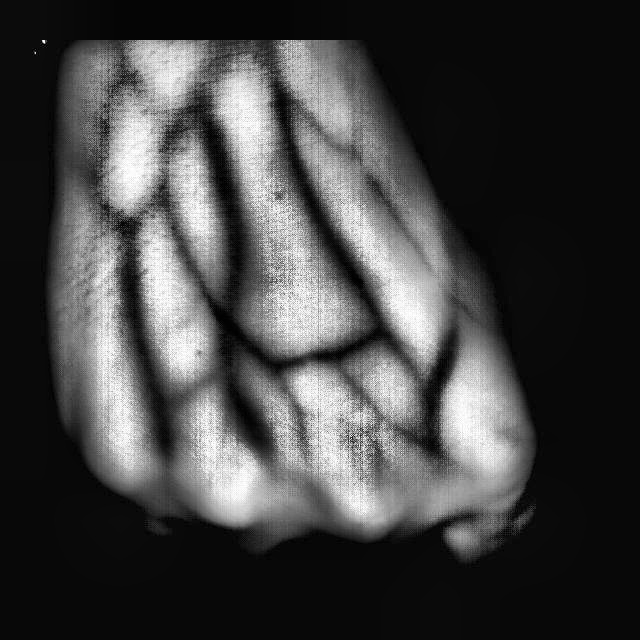Vein: (259, 121, 388, 323), (193, 104, 247, 308)
